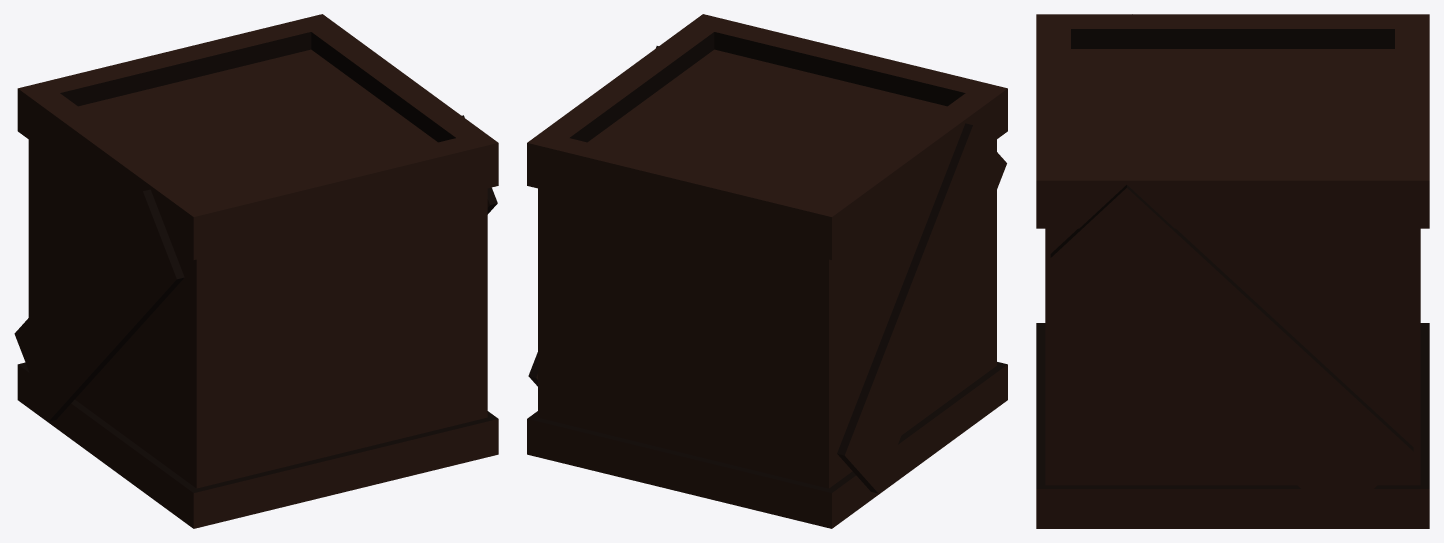
Rendered from WoodBox01.fbx.
3 views of the same model, side by side, from view 1: azimuth 30°, elevation 25°; view 2: azimuth 150°, elevation 25°; view 3: azimuth 270°, elevation 25° (orthographic). The views are drawn at different scales.
Visible parts, largest first — view 1: WoodBox01; view 2: WoodBox01; view 3: WoodBox01.
Boxes of the visible parts, <box> form: WoodBox01: <box>14,14,498,528</box>; WoodBox01: <box>527,14,1007,528</box>; WoodBox01: <box>1036,14,1429,528</box>.
Bounding box in the file's own units: 37.23 × 34.81 × 35.61.
